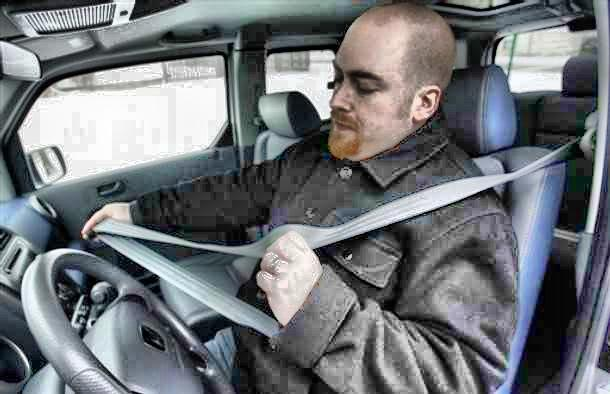seatbelt: (92, 138, 581, 283)
